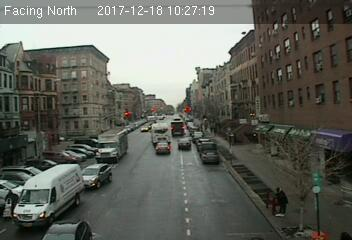car: (80, 163, 111, 188), (202, 151, 218, 163), (155, 142, 170, 152), (179, 139, 190, 148)
pedestrian: (273, 185, 288, 219)
truck: (12, 163, 83, 223), (97, 128, 126, 162)
ups: (171, 121, 185, 137)
